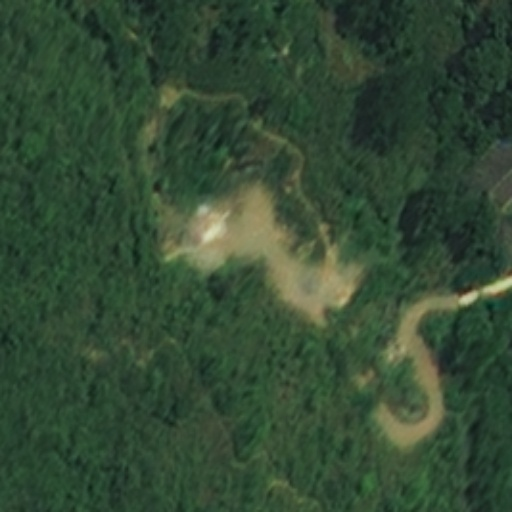landslide: (184, 178, 363, 324)
